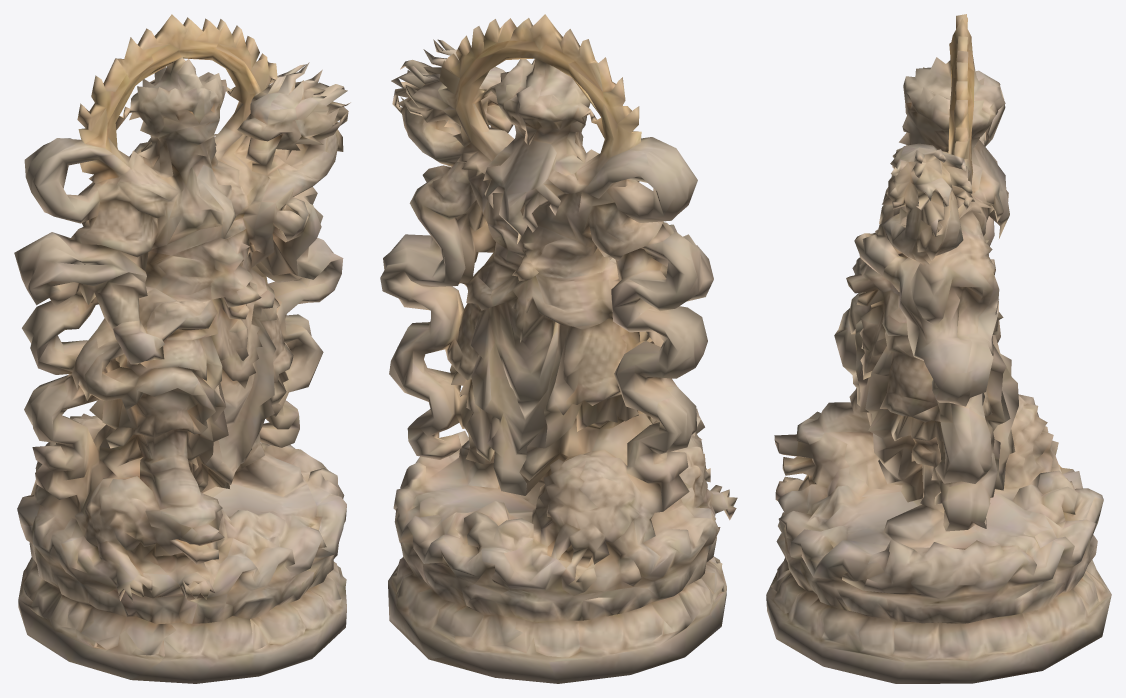
Rendered from far.glb.
The picture shows the model from 3 angles, left to right: view 1: azimuth 30°, elevation 25°; view 2: azimuth 150°, elevation 25°; view 3: azimuth 270°, elevation 25°; orthographic projection. The views are drawn at different scales.
Visible parts, largest first — view 1: four-heavenly-kings-04; view 2: four-heavenly-kings-04; view 3: four-heavenly-kings-04.
Part boxes in pixels (bbox=[...]): four-heavenly-kings-04: bbox=[14, 14, 350, 683]; four-heavenly-kings-04: bbox=[380, 14, 737, 683]; four-heavenly-kings-04: bbox=[766, 14, 1111, 683].
Bounding box in the file's own units: 0.5589 × 0.9998 × 0.5243.
Materials: 1 (1 with a texture image).
